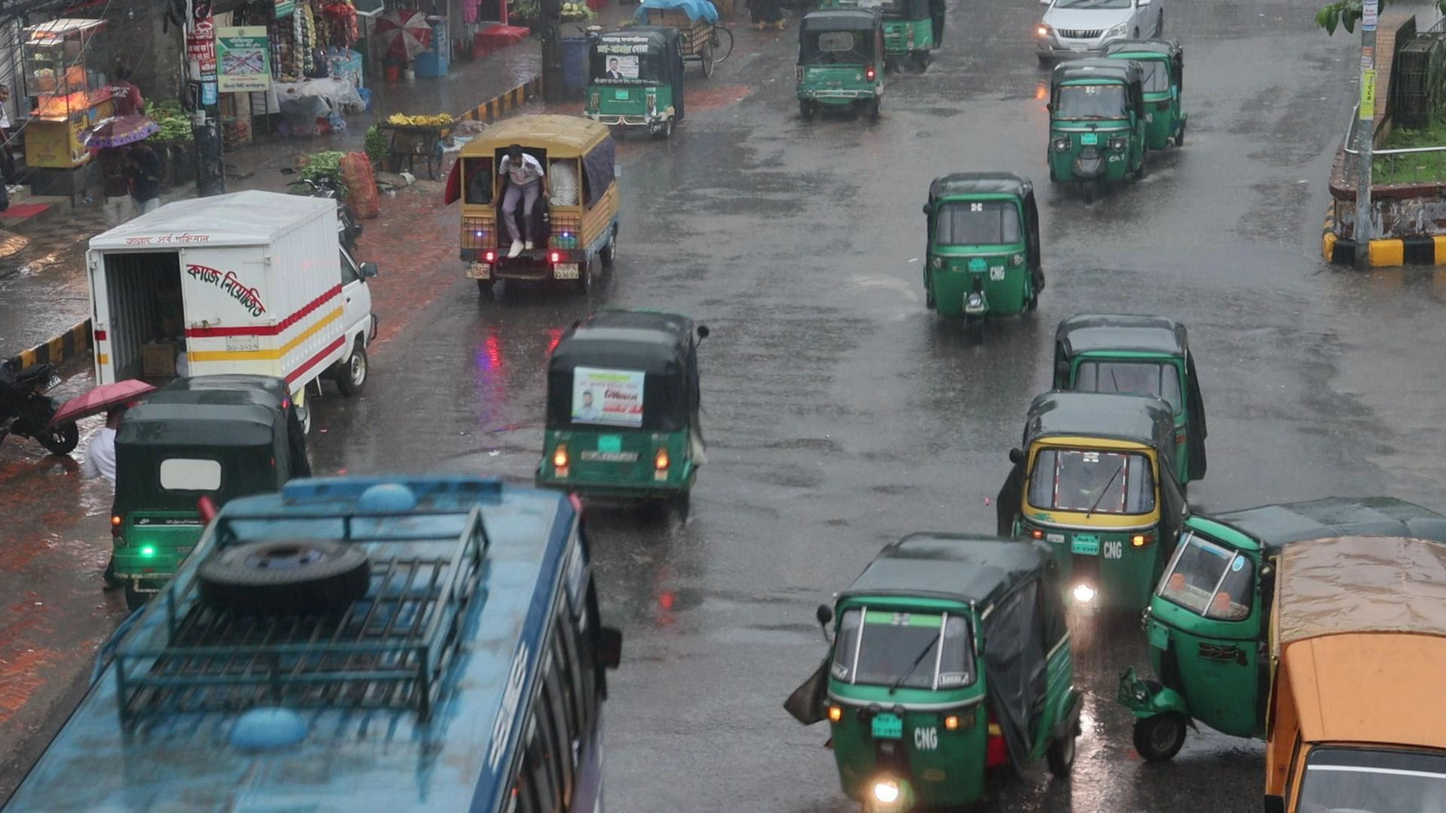Truck: (449, 105, 622, 290)
